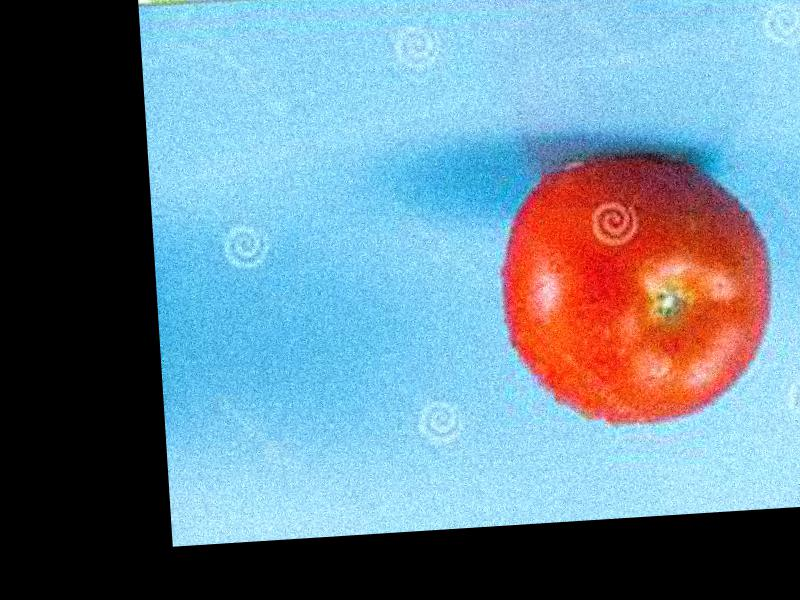Tomato: (494, 150, 782, 431)
